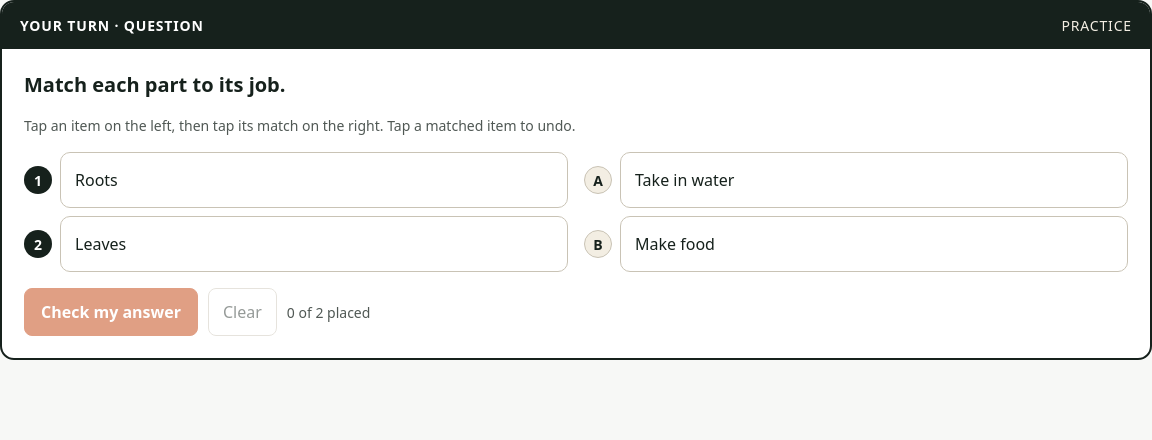
Test: InteractionShell match-pairs › shows a green check icon only on correct feedback
The image size is (1152, 440).
Click the button "Roots": (96, 180) [60,152,568,208]
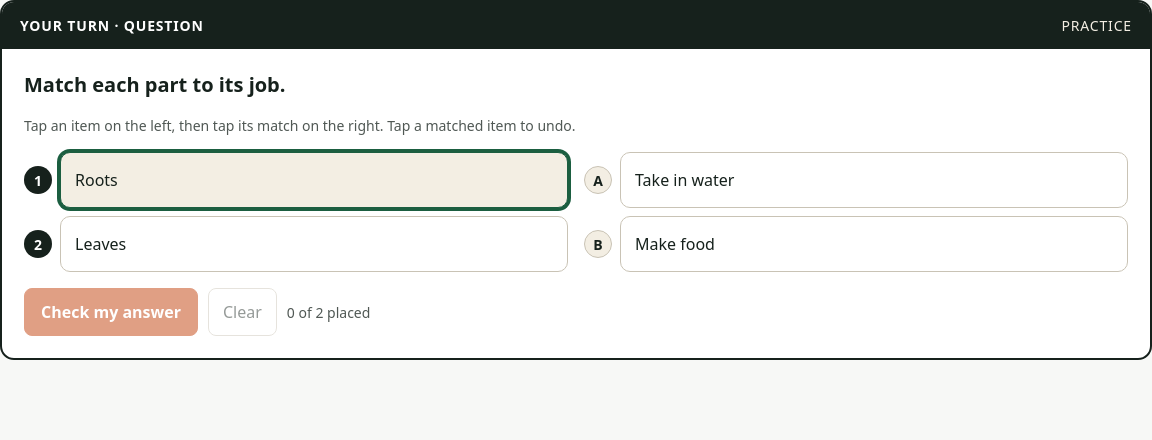
Click the button "Take in water": (685, 180) [620,152,1128,208]
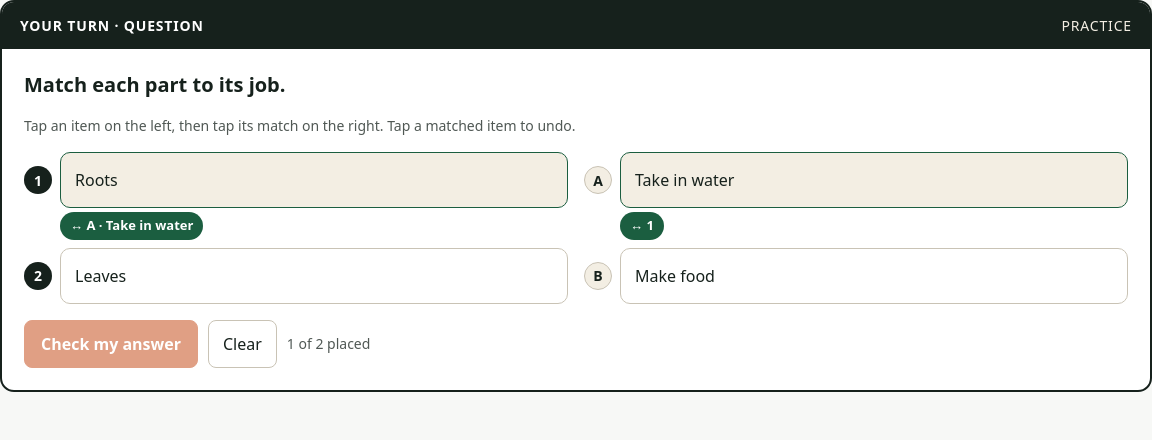
Click the button "Leaves": (101, 276) [60,248,568,304]
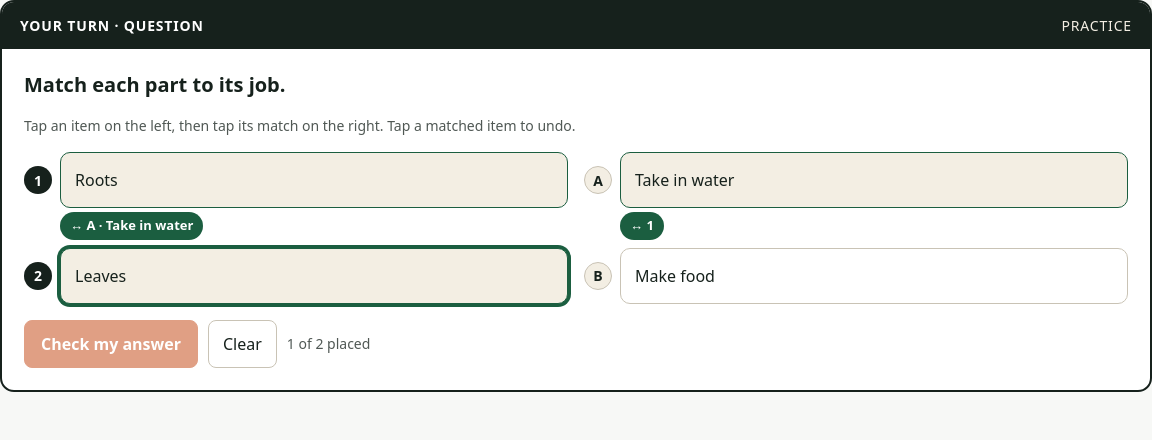
Click the button "Make food": (675, 276) [620,248,1128,304]
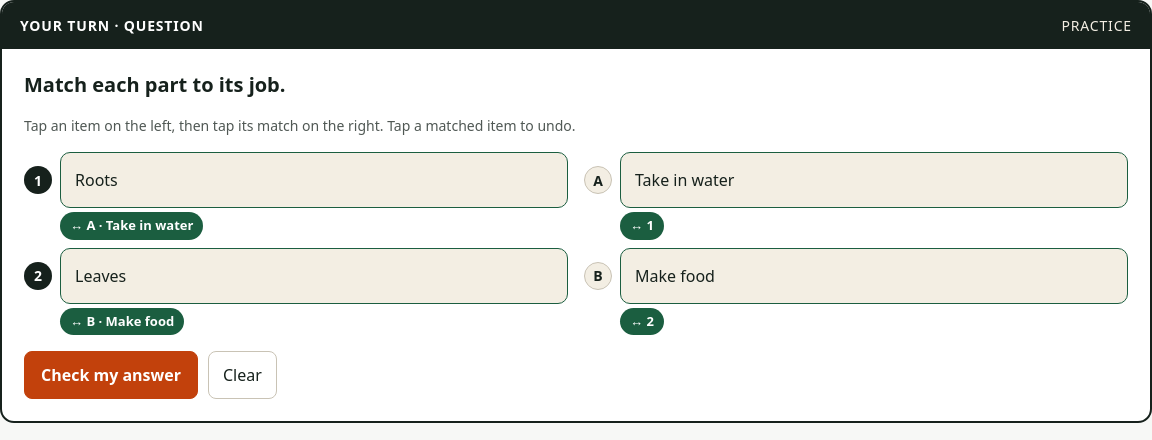
Click the button with test id "interaction-check": (111, 375) [24,351,198,399]
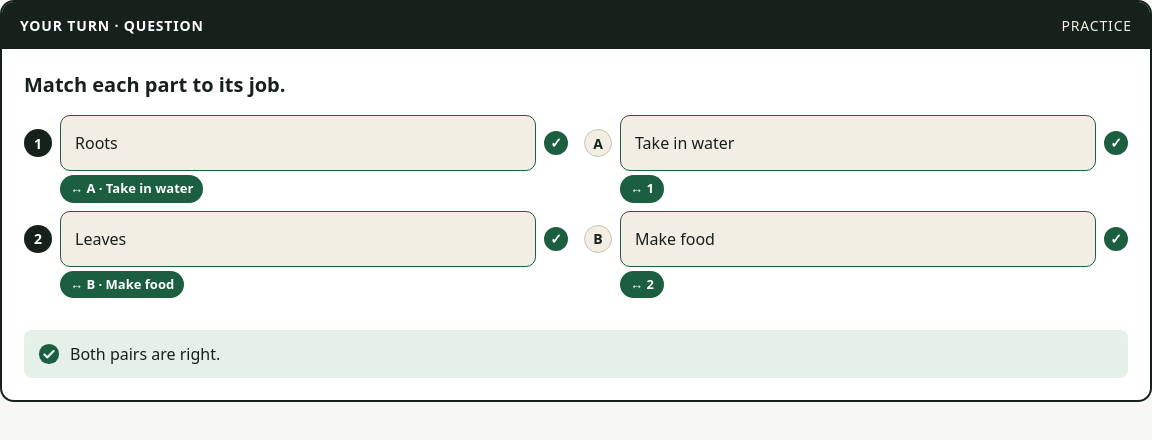
Now the message reads "Both pairs are right.", box [70,343,220,365]
